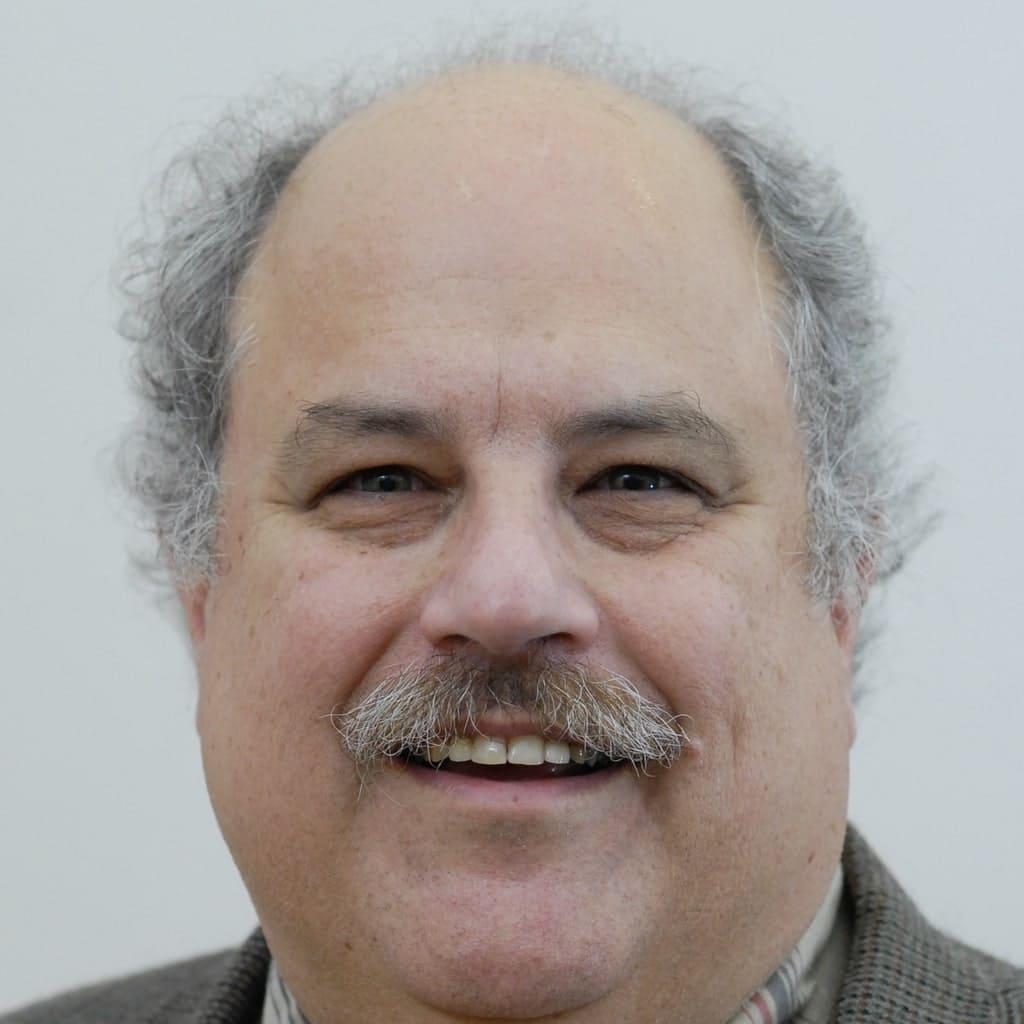without_mask: (227, 260, 787, 904)
